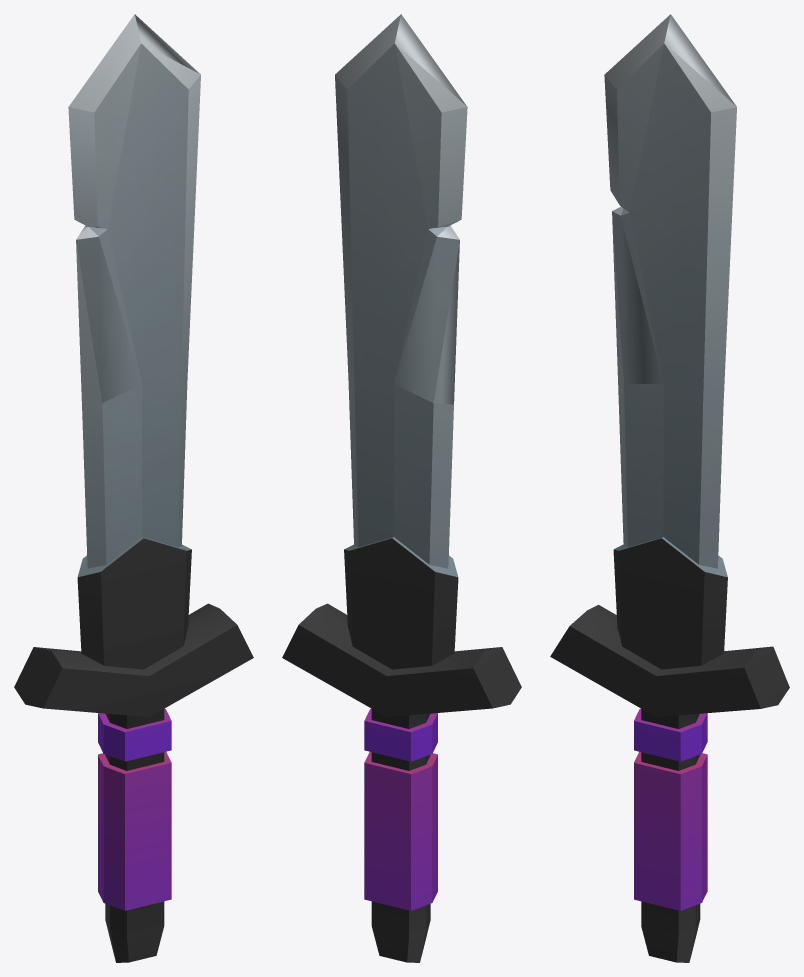
File: Sword07.fbx
3 renders of one model, left to right at view 1: azimuth 30°, elevation 25°; view 2: azimuth 150°, elevation 25°; view 3: azimuth 330°, elevation 25°, orthographic.
Parts seen in each view (by area): view 1: Sword07; view 2: Sword07; view 3: Sword07.
Boxes of the visible parts, box(x1,y1,x2,y2) form: Sword07: box(14, 14, 253, 962); Sword07: box(282, 14, 521, 962); Sword07: box(550, 14, 789, 962).
Size of the model in its own units: 12.89 by 53.64 by 2.99.
